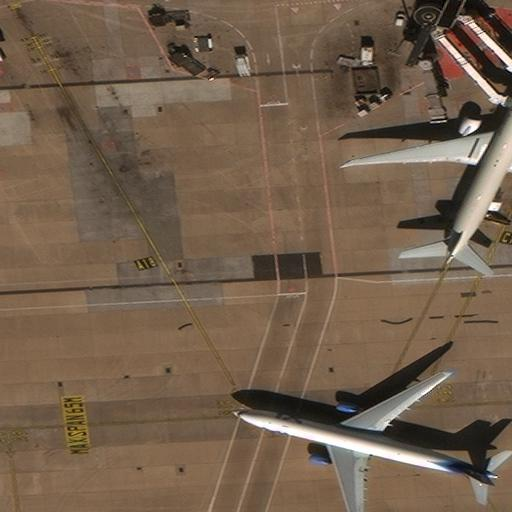Large Civil Transport: (232, 369, 497, 511), (348, 76, 512, 262)
